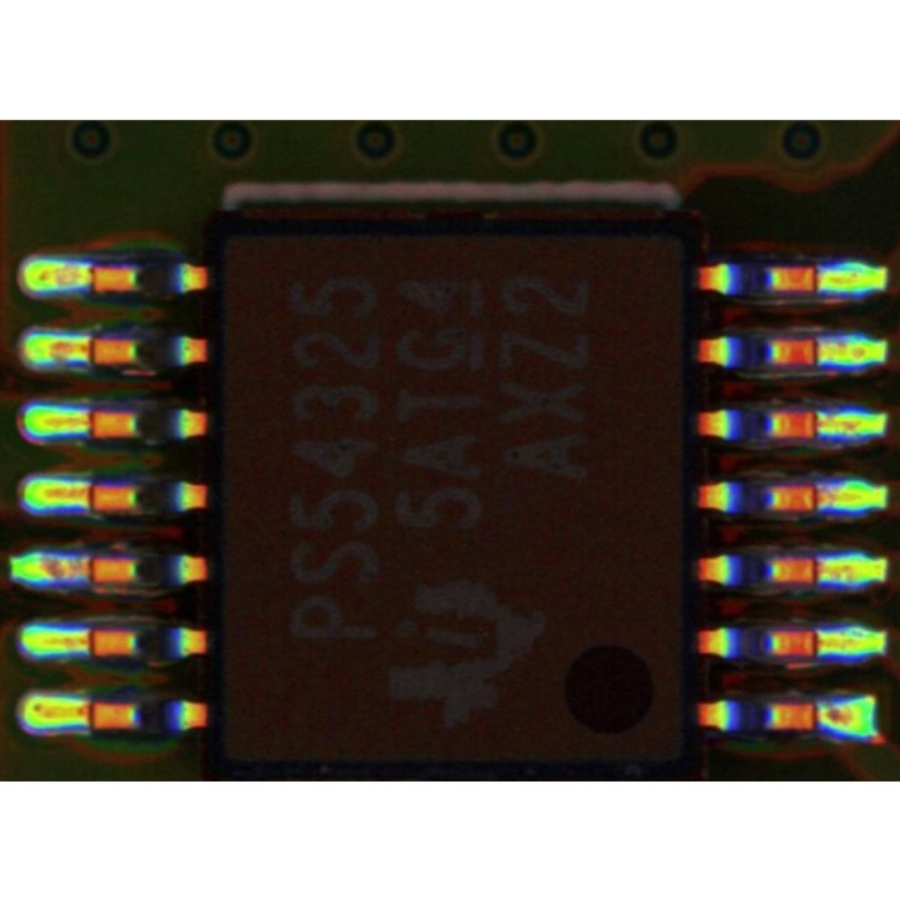Bad_podu: (63, 340, 117, 359), (57, 486, 114, 504), (57, 414, 117, 431), (63, 562, 115, 580), (796, 561, 841, 581), (60, 636, 122, 650), (796, 490, 841, 509), (796, 416, 842, 433), (64, 706, 118, 720), (796, 634, 838, 651)
